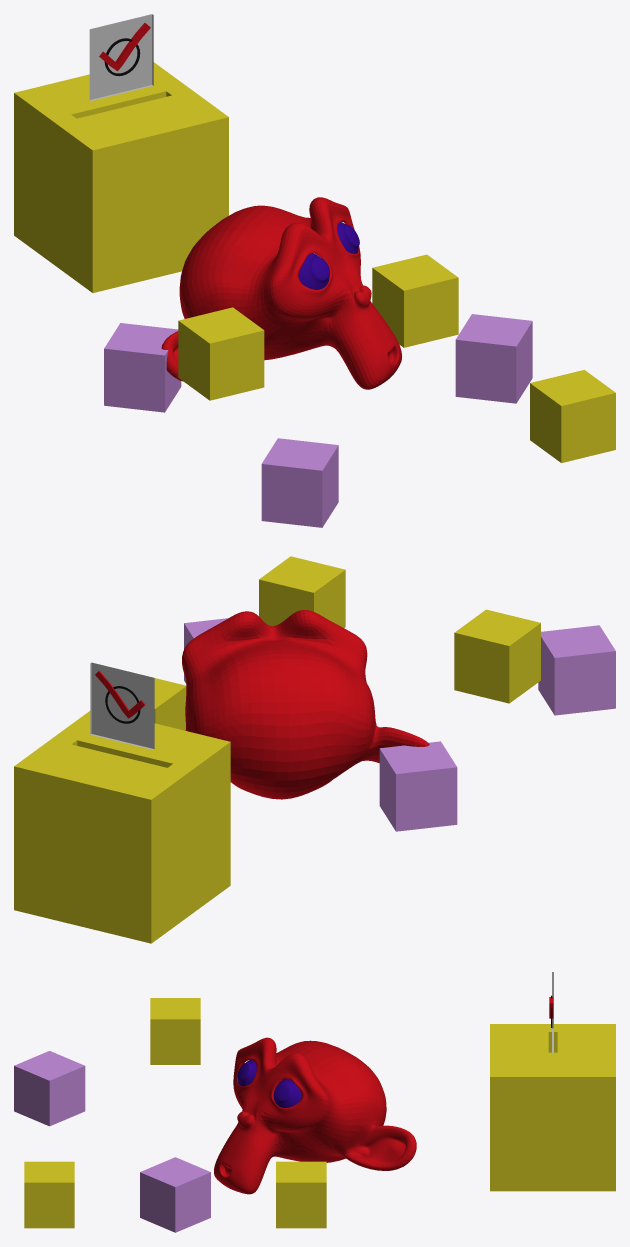
The model's file is framing_ref.glb.
3 renders of one model, top to bottom at view 1: azimuth 30°, elevation 25°; view 2: azimuth 150°, elevation 25°; view 3: azimuth 270°, elevation 25°, orthographic. The views are drawn at different scales.
Parts seen in each view (by area): view 1: Cube, Suzanne, GEO.Cubes.006, GEO.Cubes.007, GEO.Cubes, GEO.Cubes.004, GEO.Cubes.005, GEO.Cubes.003, Cube.001; view 2: Cube, Suzanne, GEO.Cubes.006, GEO.Cubes.003, GEO.Cubes.005, Cube.001, GEO.Cubes.007, GEO.Cubes, GEO.Cubes.004; view 3: Cube, Suzanne, GEO.Cubes.005, GEO.Cubes.004, GEO.Cubes, GEO.Cubes.007, GEO.Cubes.006.
Boxes of the visible parts, x1,y1,x2,y2 form: Cube: [14, 62, 228, 292]; Suzanne: [161, 197, 401, 389]; GEO.Cubes.006: [178, 307, 264, 400]; GEO.Cubes.007: [530, 370, 615, 462]; GEO.Cubes: [372, 254, 458, 347]; GEO.Cubes.004: [455, 314, 532, 403]; GEO.Cubes.005: [261, 438, 338, 527]; GEO.Cubes.003: [104, 323, 181, 412]; Cube.001: [89, 14, 153, 100]; Cube: [14, 711, 230, 943]; Suzanne: [182, 610, 429, 799]; GEO.Cubes.006: [454, 609, 540, 703]; GEO.Cubes.003: [379, 741, 457, 831]; GEO.Cubes.005: [538, 625, 615, 715]; Cube.001: [90, 662, 154, 749]; GEO.Cubes.007: [259, 556, 345, 627]; GEO.Cubes: [154, 678, 186, 730]; GEO.Cubes.004: [184, 618, 228, 683]; Cube: [490, 1024, 615, 1191]; Suzanne: [214, 1037, 416, 1194]; GEO.Cubes.005: [14, 1051, 85, 1126]; GEO.Cubes.004: [140, 1157, 210, 1232]; GEO.Cubes: [276, 1161, 326, 1228]; GEO.Cubes.007: [24, 1161, 74, 1228]; GEO.Cubes.006: [150, 998, 200, 1064].
Size of what is drawn, in the model's own units: 1.28 by 0.7913 by 2.39.
